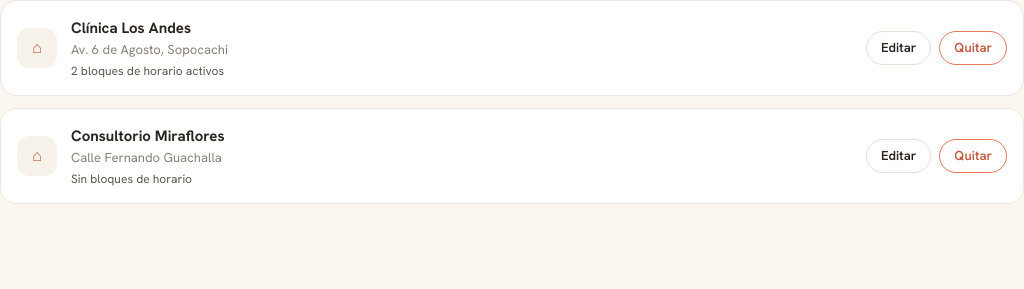
Scenario: LocationList › cancels the warning without removing
This screenshot has width=1024, height=289.
Click the button "Quitar" in the row of "Av. 6 de Agosto, Sopocachi": click(973, 48) [939, 31, 1007, 65]
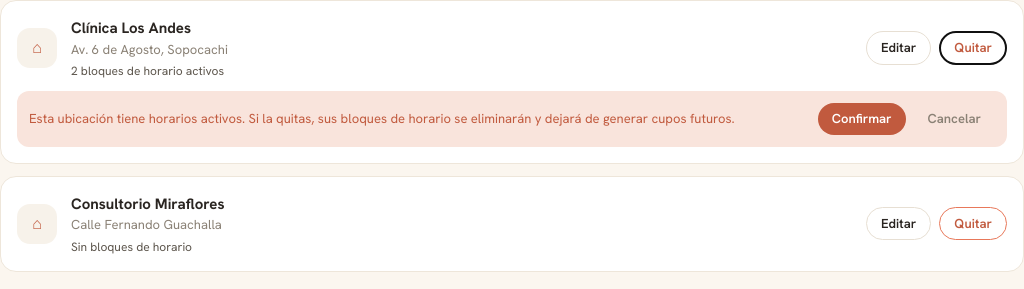
Click the button "Cancelar": click(954, 119) [914, 103, 995, 134]
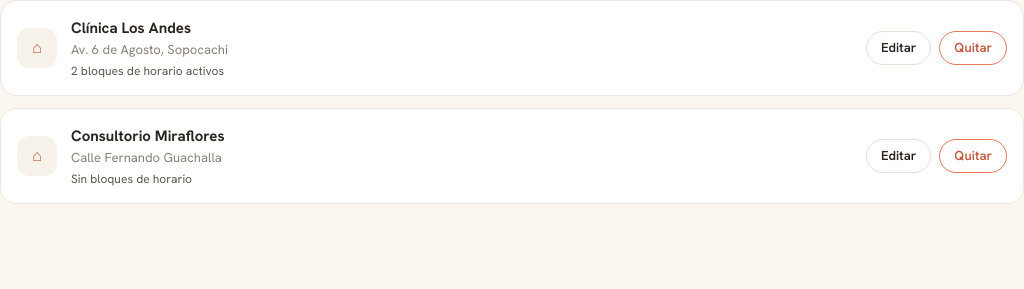
Check: the text "sus bloques de horario se eliminarán" is gone
